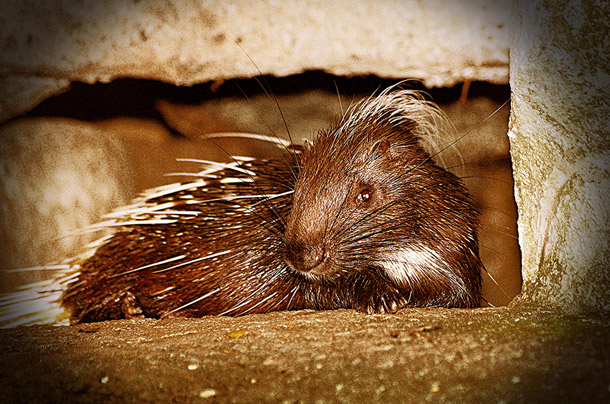porcupine: (6, 59, 498, 323)
